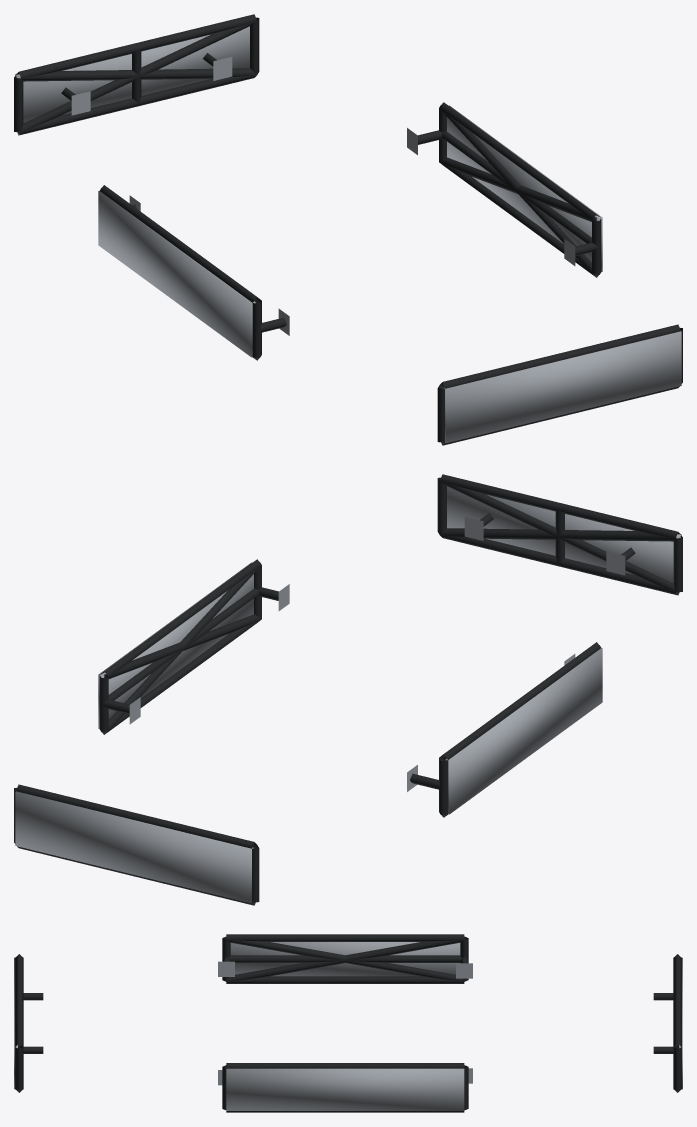
File: hozuki_escama_protecao.glb
3 renders of one model, top to bottom at view 1: azimuth 30°, elevation 25°; view 2: azimuth 150°, elevation 25°; view 3: azimuth 270°, elevation 25°, orthographic. The views are drawn at different scales.
Visible parts, largest first — view 1: Protection_front_Level3_Details, Protection_left_Level3_Details, Protection_rear_Level1_Details, Protection_rear_Level3_Details, Protection_right_Level1_Details, Protection_rear_Level2_Details, Protection_right_Level2_Details, Protection_right_Level3_Details, Protection_front_Level1_Details, Protection_left_Level1_Details; view 2: Protection_rear_Level3_Details, Protection_left_Level3_Details, Protection_front_Level1_Details, Protection_front_Level3_Details, Protection_right_Level1_Details, Protection_front_Level2_Details, Protection_right_Level2_Details, Protection_right_Level3_Details, Protection_rear_Level1_Details, Protection_left_Level1_Details; view 3: Protection_right_Level3_Details, Protection_left_Level2_Details, Protection_left_Level1_Details, Protection_left_Level3_Details, Protection_right_Level1_Details, Protection_rear_Level1_Details, Protection_front_Level1_Details.
Boxes of the visible parts, <box> form: Protection_front_Level3_Details: <box>443,331,681,443</box>; Protection_left_Level3_Details: <box>98,191,255,357</box>; Protection_rear_Level1_Details: <box>14,14,259,135</box>; Protection_rear_Level3_Details: <box>15,26,249,123</box>; Protection_right_Level1_Details: <box>407,102,601,277</box>; Protection_rear_Level2_Details: <box>16,21,256,134</box>; Protection_right_Level2_Details: <box>439,108,600,277</box>; Protection_right_Level3_Details: <box>447,105,602,271</box>; Protection_front_Level1_Details: <box>437,324,682,445</box>; Protection_left_Level1_Details: <box>99,185,289,360</box>; Protection_rear_Level3_Details: <box>15,791,253,903</box>; Protection_left_Level3_Details: <box>445,648,602,814</box>; Protection_front_Level1_Details: <box>437,474,682,595</box>; Protection_front_Level3_Details: <box>447,486,681,583</box>; Protection_right_Level1_Details: <box>99,559,289,734</box>; Protection_front_Level2_Details: <box>440,481,680,594</box>; Protection_right_Level2_Details: <box>100,566,261,734</box>; Protection_right_Level3_Details: <box>98,562,253,728</box>; Protection_rear_Level1_Details: <box>14,784,259,905</box>; Protection_left_Level1_Details: <box>407,642,601,817</box>; Protection_right_Level3_Details: <box>226,1068,464,1110</box>; Protection_left_Level2_Details: <box>226,937,464,981</box>; Protection_left_Level1_Details: <box>218,934,472,983</box>; Protection_left_Level3_Details: <box>230,942,460,976</box>; Protection_right_Level1_Details: <box>218,1063,472,1112</box>; Protection_rear_Level1_Details: <box>653,954,681,1092</box>; Protection_front_Level1_Details: <box>15,954,43,1092</box>.
Bounding box in the file's own units: 2.04 × 0.354 × 4.33.
1 material, 1 textured.
